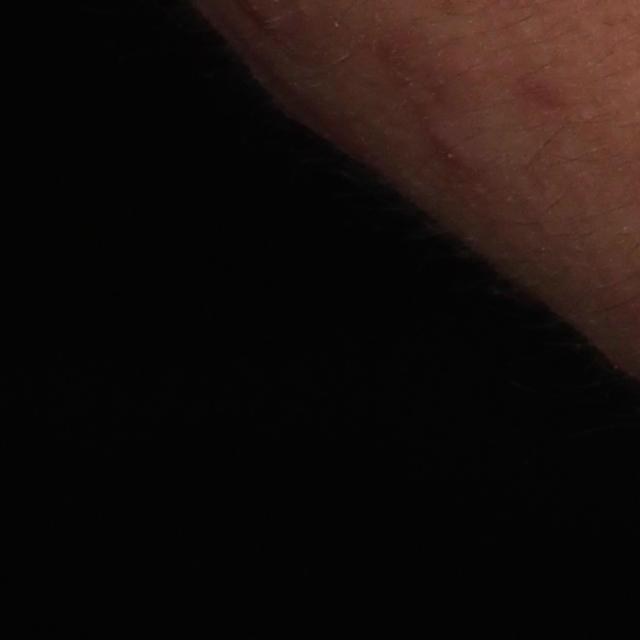papule: (427, 124, 479, 170)
